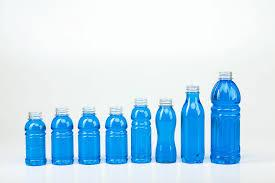Plastic bottle: (206, 68, 244, 168), (180, 82, 208, 170), (150, 88, 176, 168), (50, 103, 76, 168), (129, 94, 150, 168), (104, 103, 128, 166), (80, 105, 102, 167), (24, 108, 46, 167)
